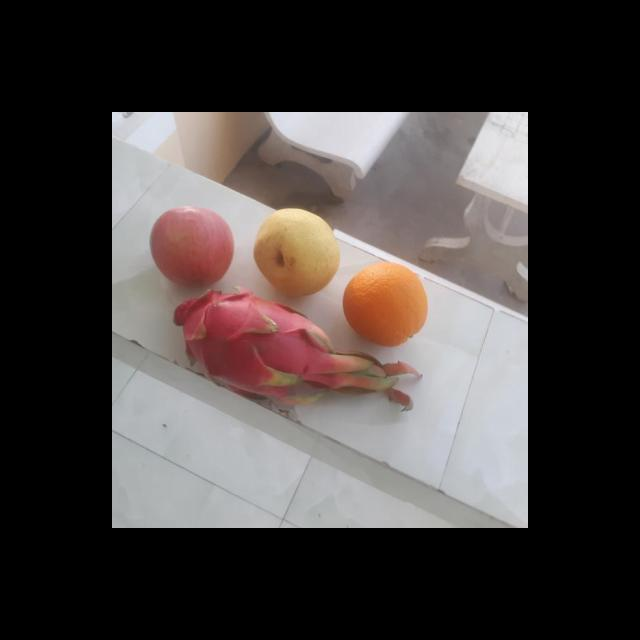apple: (147, 204, 235, 290)
orange: (338, 260, 431, 346)
pear: (250, 207, 344, 295)
pitaya: (168, 287, 336, 392)
